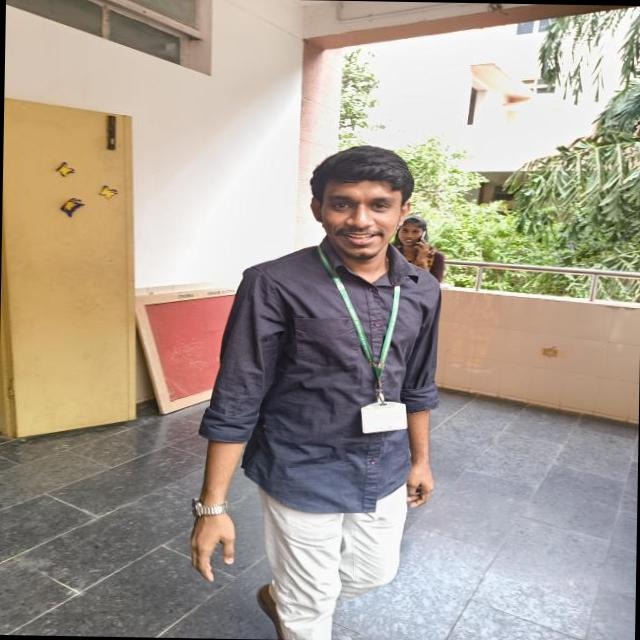id_card: (334, 271, 409, 440)
